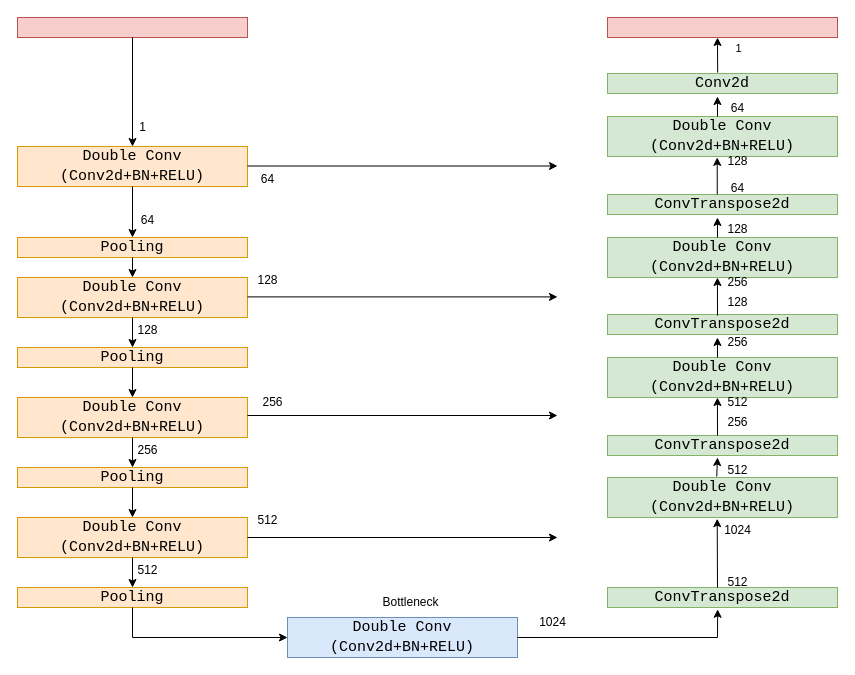
This 855x675 diagram has some shape labels left out. The centre of each missing label's shape, as x and y in pixels:
"Input Image" goes at point 132,27.
"Output Segmentation map" goes at point 722,27.
